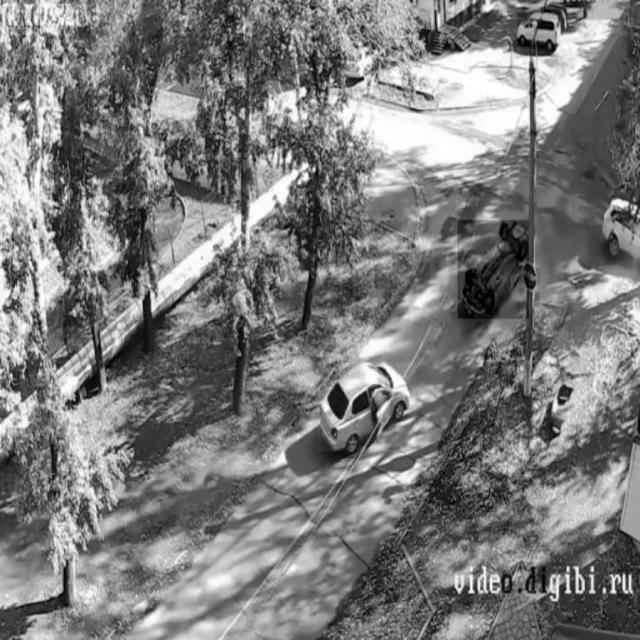vehicle: (318, 363, 416, 451), (458, 221, 529, 319), (603, 186, 640, 269), (518, 7, 560, 47)
